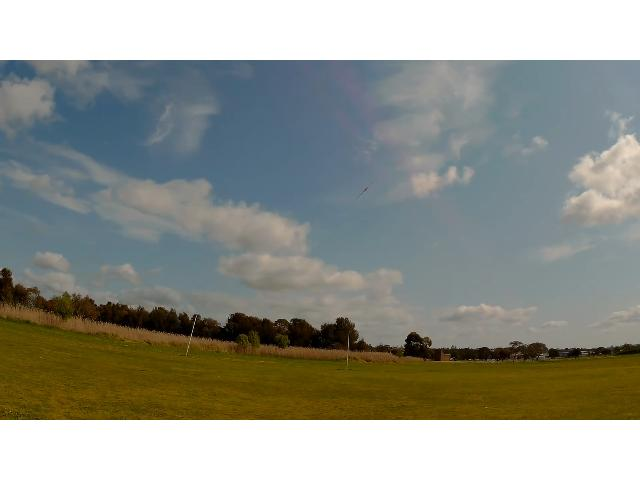Anti-Drone: (356, 179, 376, 199)
